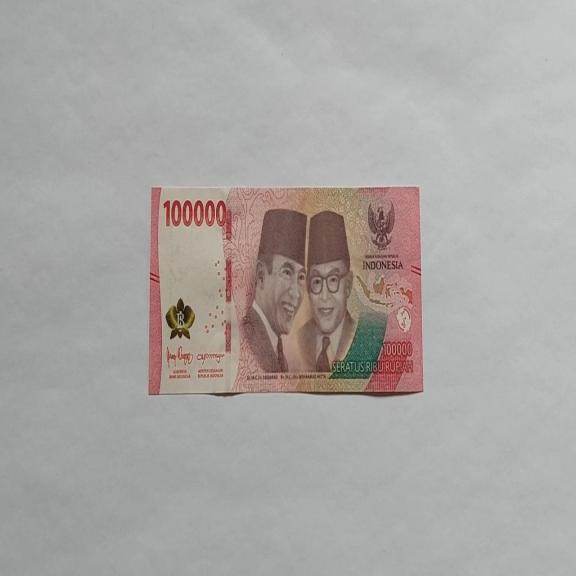Kertas: (148, 184, 424, 397), (162, 195, 227, 230)
